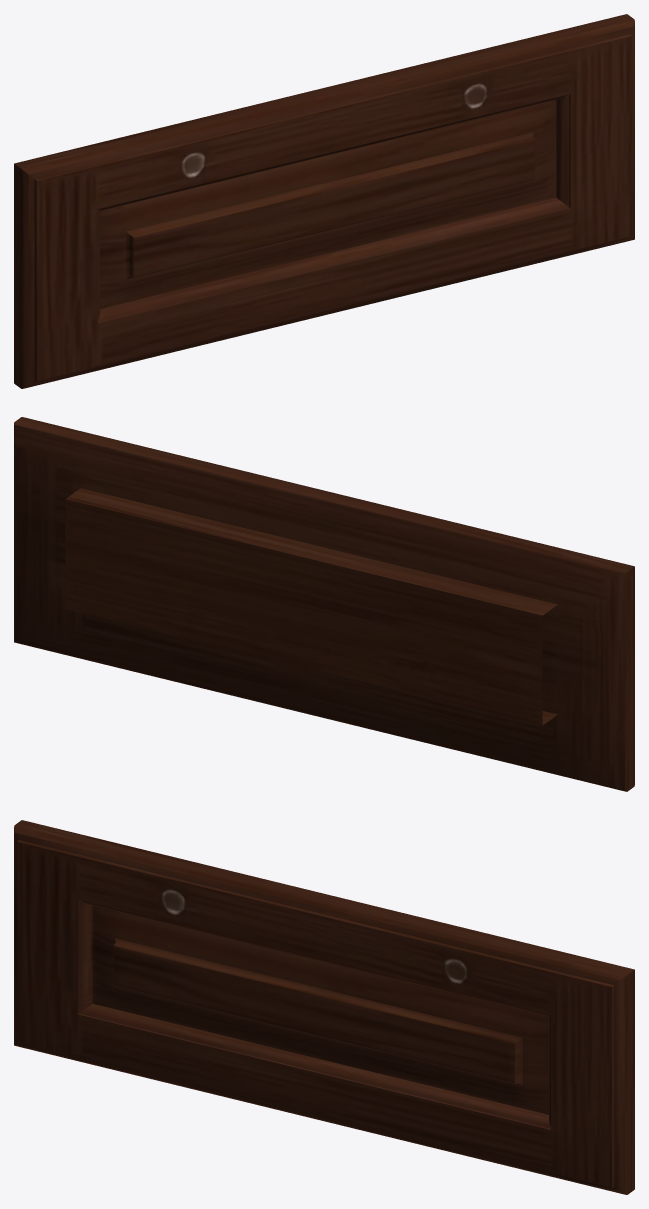
Rendered from link_3__drawer_front-17.glb.
3 views of the same model, one above another, from view 1: azimuth 30°, elevation 25°; view 2: azimuth 150°, elevation 25°; view 3: azimuth 330°, elevation 25° (orthographic).
Visible parts, largest first — view 1: geometry_0; view 2: geometry_0; view 3: geometry_0.
Part boxes in pixels (<box>): geometry_0: <box>14,14,634,388</box>; geometry_0: <box>14,417,634,791</box>; geometry_0: <box>14,820,634,1194</box>.
Size of the model in its own units: 0.6292 by 0.2157 by 0.0539.
Materials: 1 (1 with a texture image).
